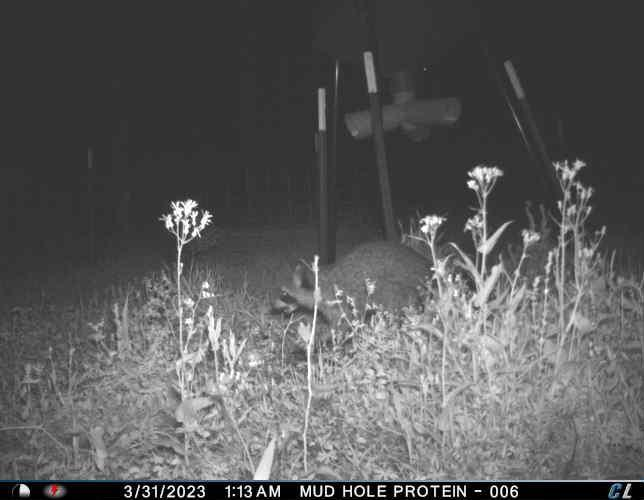Raccoon: (271, 239, 462, 344)
